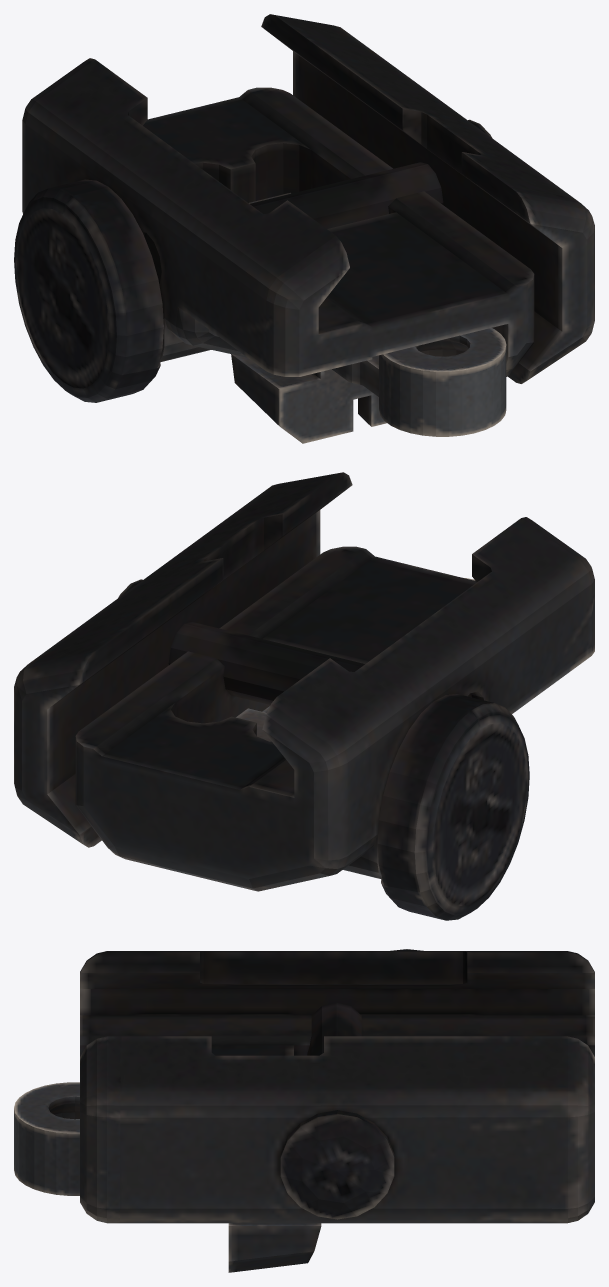
3 views of the same model, one above another, from view 1: azimuth 30°, elevation 25°; view 2: azimuth 150°, elevation 25°; view 3: azimuth 270°, elevation 25° (orthographic). The views are drawn at different scales.
Visible parts, largest first — view 1: TW_5ba26b17d4351e00367f9bdd_folded_PZ_Import; view 2: TW_5ba26b17d4351e00367f9bdd_folded_PZ_Import; view 3: TW_5ba26b17d4351e00367f9bdd_folded_PZ_Import.
Part boxes in pixels (x1,y1,x2,y2): TW_5ba26b17d4351e00367f9bdd_folded_PZ_Import: (14,14,594,443); TW_5ba26b17d4351e00367f9bdd_folded_PZ_Import: (14,472,594,920); TW_5ba26b17d4351e00367f9bdd_folded_PZ_Import: (14,949,594,1272).
Bounding box in the file's own units: 0.0209 × 0.0282 × 0.0134.
1 material, 1 textured.
